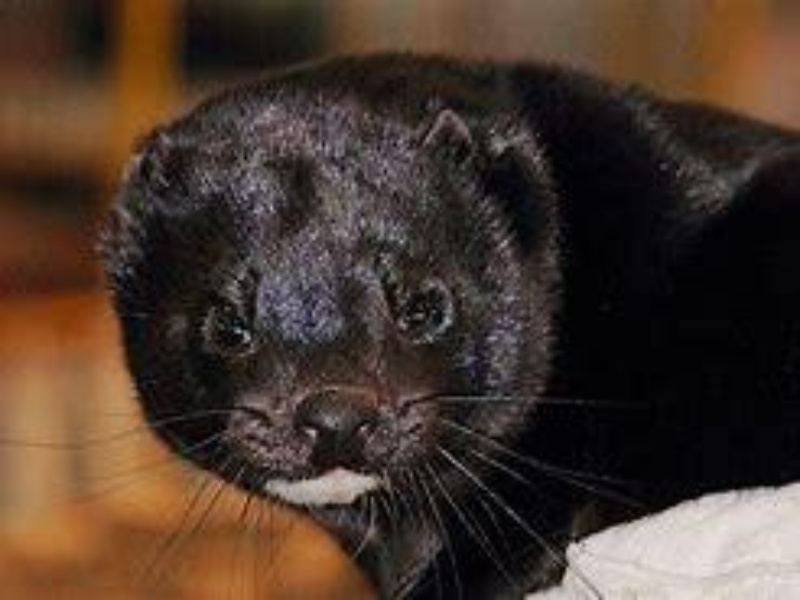minkish: (99, 44, 800, 597)
